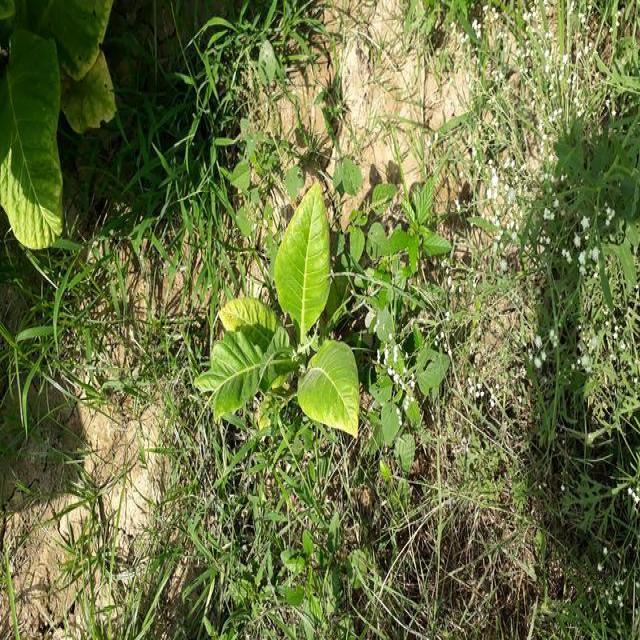crop: (198, 192, 368, 439), (7, 9, 118, 246)
